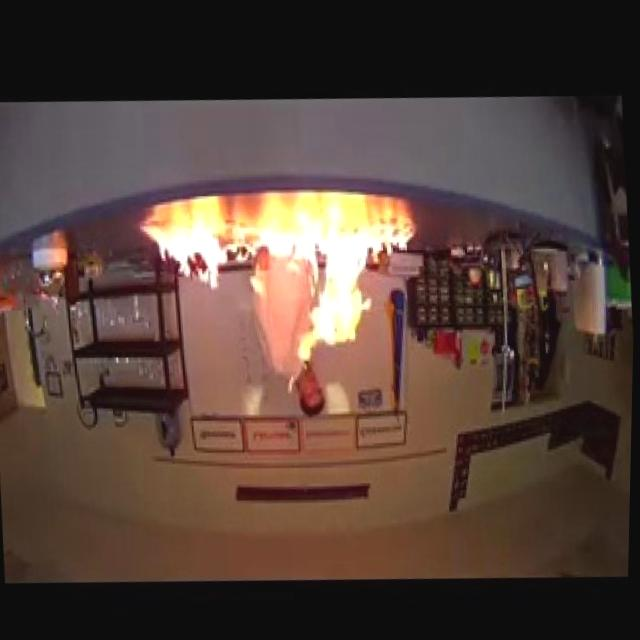Fire: (132, 199, 428, 376)
